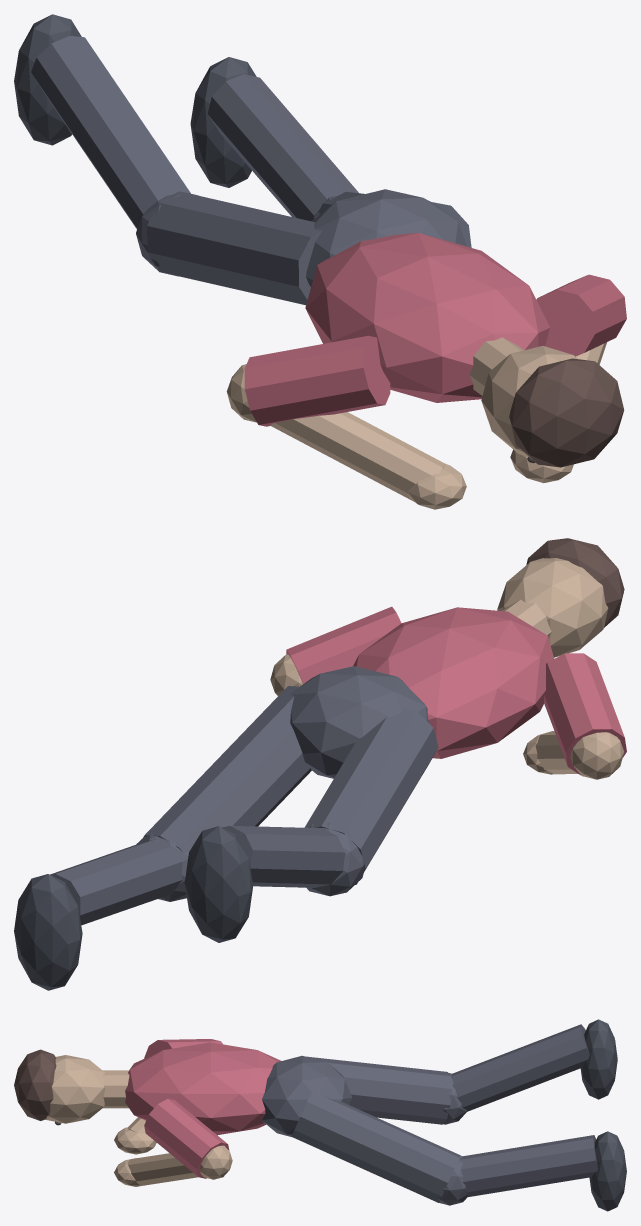
3 renders of one model, top to bottom at view 1: azimuth 30°, elevation 25°; view 2: azimuth 150°, elevation 25°; view 3: azimuth 270°, elevation 25°, orthographic. The views are drawn at different scales.
Parts seen in each view (by area): view 1: world; view 2: world; view 3: world.
Part boxes in pixels (box(x1,y1,x2,y2)): world: box(14, 14, 626, 509); world: box(14, 538, 626, 990); world: box(14, 1019, 626, 1211).
Bounding box in the file's own units: 0.93 × 0.5125 × 2.07.
